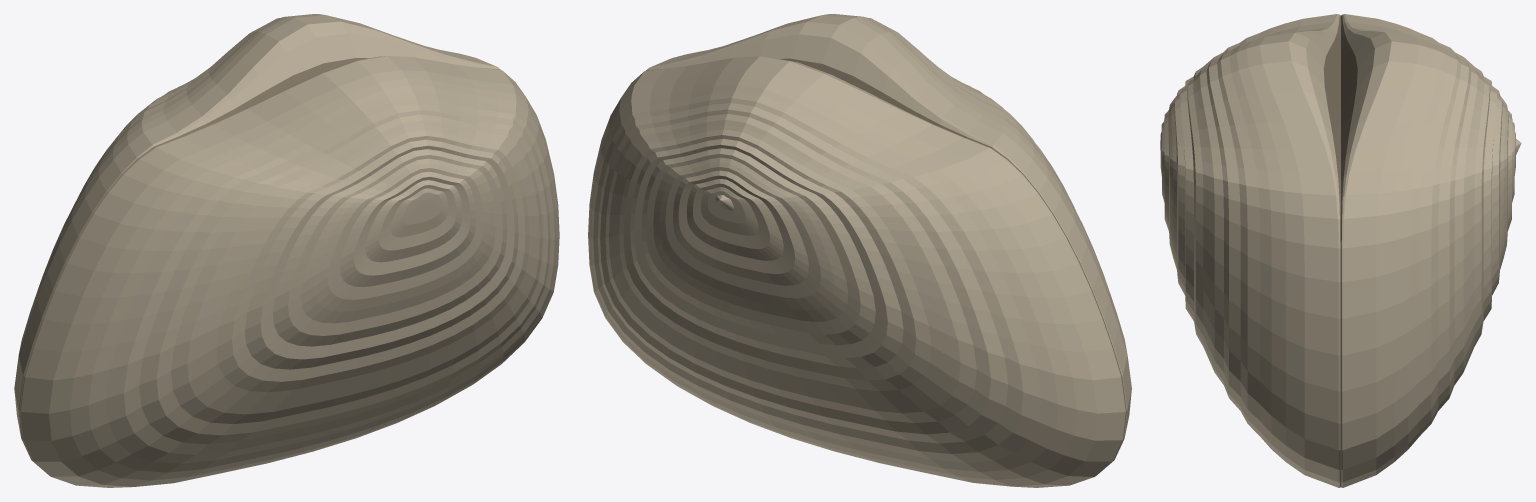
Rendered from cucullaea.glb.
3 renders of one model, left to right at view 1: azimuth 30°, elevation 25°; view 2: azimuth 150°, elevation 25°; view 3: azimuth 270°, elevation 25°, orthographic. The views are drawn at different scales.
Parts seen in each view (by area): view 1: Articulated deep valves and closed commissure; view 2: Articulated deep valves and closed commissure; view 3: Articulated deep valves and closed commissure.
Part boxes in pixels (x1,y1,x2,y2): Articulated deep valves and closed commissure: (14,14,559,487); Articulated deep valves and closed commissure: (588,14,1131,487); Articulated deep valves and closed commissure: (1160,14,1521,487).
Size of the model in its own units: 0.049 by 0.0353 by 0.028.
